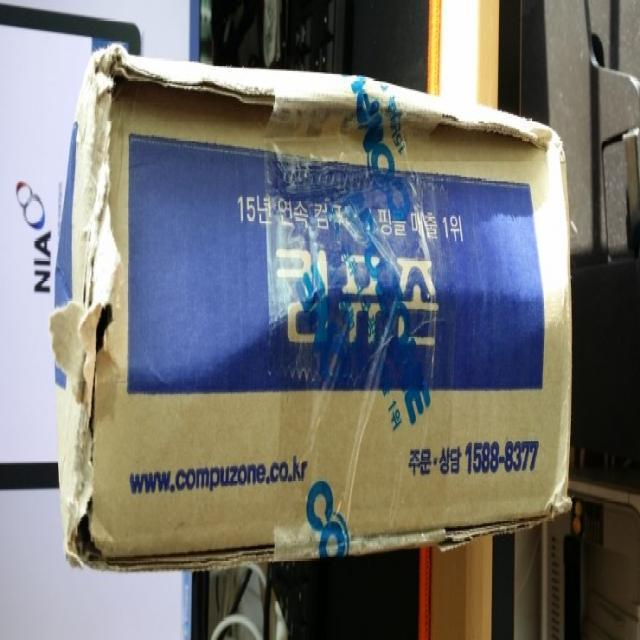hole: (68, 304, 122, 566)
